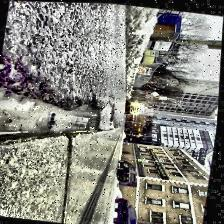pothole: (0, 77, 121, 153)
